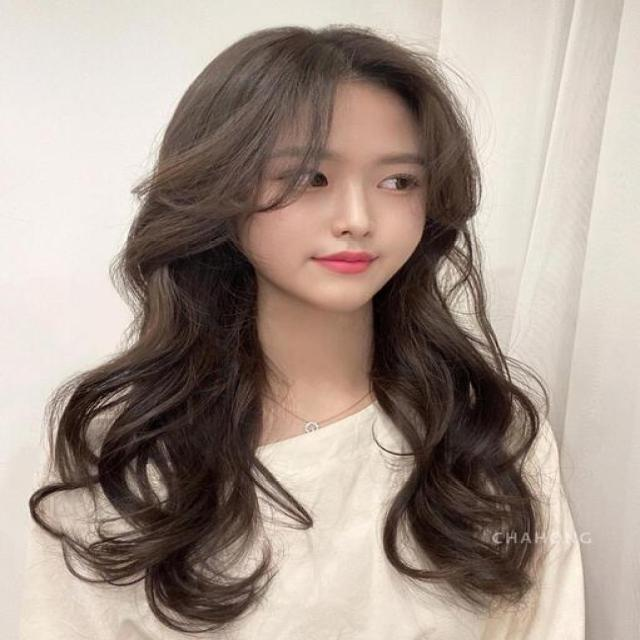Nonhelmet: (132, 23, 484, 317)
